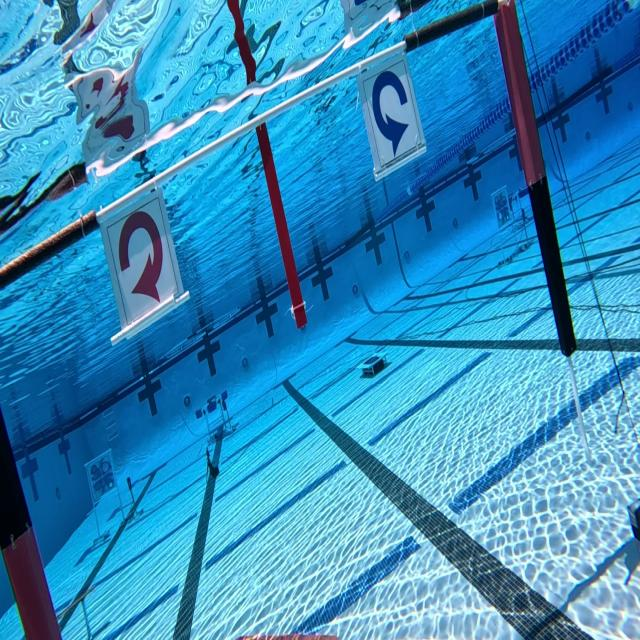blue_side: (359, 52, 424, 170)
red_side: (104, 200, 174, 328)
